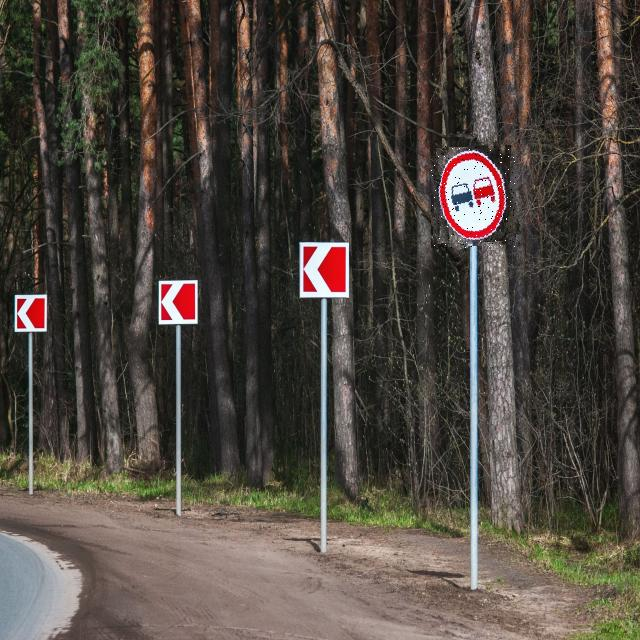no overtaking: (431, 145, 516, 248)
